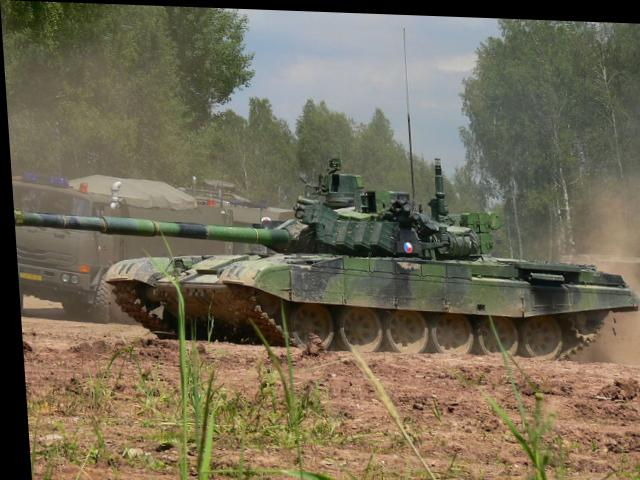tank: (109, 172, 631, 350)
